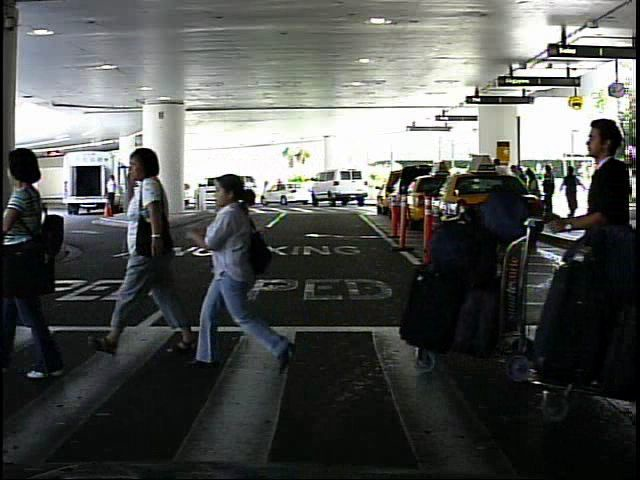person: (0, 134, 90, 382), (187, 159, 272, 382), (119, 138, 195, 359), (555, 95, 640, 230), (585, 172, 605, 217), (101, 172, 119, 204), (260, 178, 271, 204)
